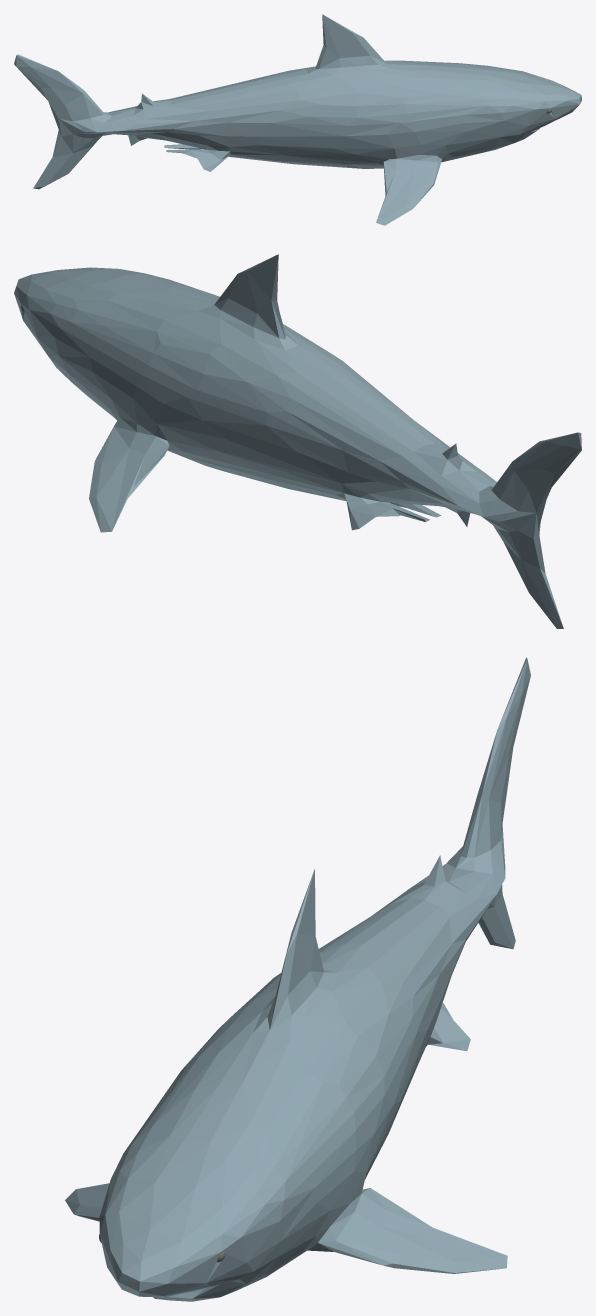
3 renders of one model, top to bottom at view 1: azimuth 30°, elevation 25°; view 2: azimuth 150°, elevation 25°; view 3: azimuth 270°, elevation 25°, orthographic. The views are drawn at different scales.
Parts seen in each view (by area): view 1: Shark.2; view 2: Shark.2; view 3: Shark.2.
Boxes of the visible parts, box(x1,y1,x2,y2) form: Shark.2: box(14, 14, 581, 225); Shark.2: box(14, 254, 581, 628); Shark.2: box(65, 657, 530, 1301).
Bounding box in the file's own units: 475 × 160 × 204.
